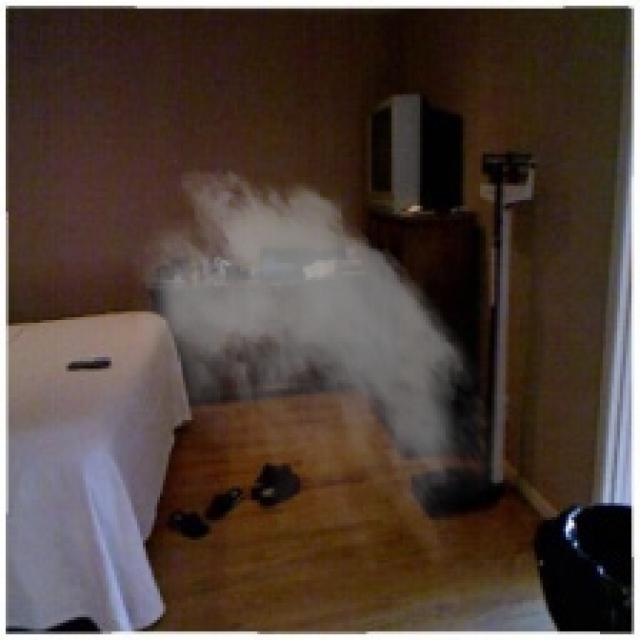smoke: (114, 154, 512, 572)
